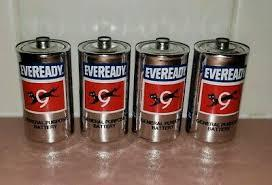battery: (5, 27, 78, 152), (185, 30, 253, 150), (70, 26, 134, 152), (126, 29, 189, 146)
